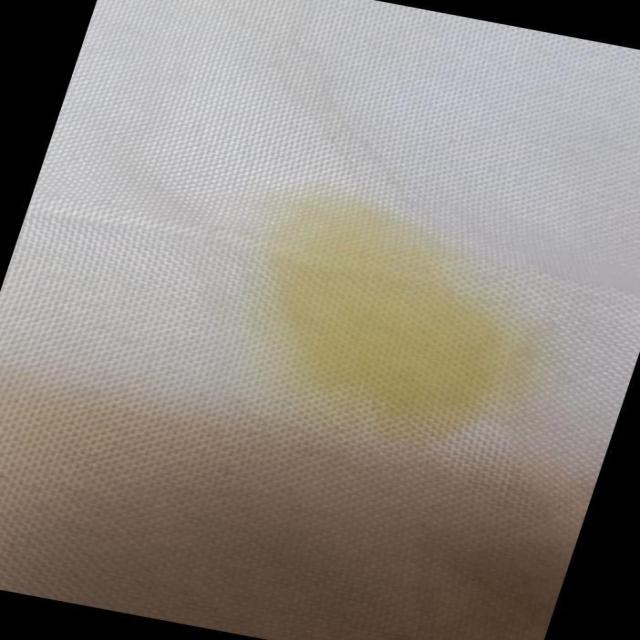stain: (195, 173, 589, 469)
